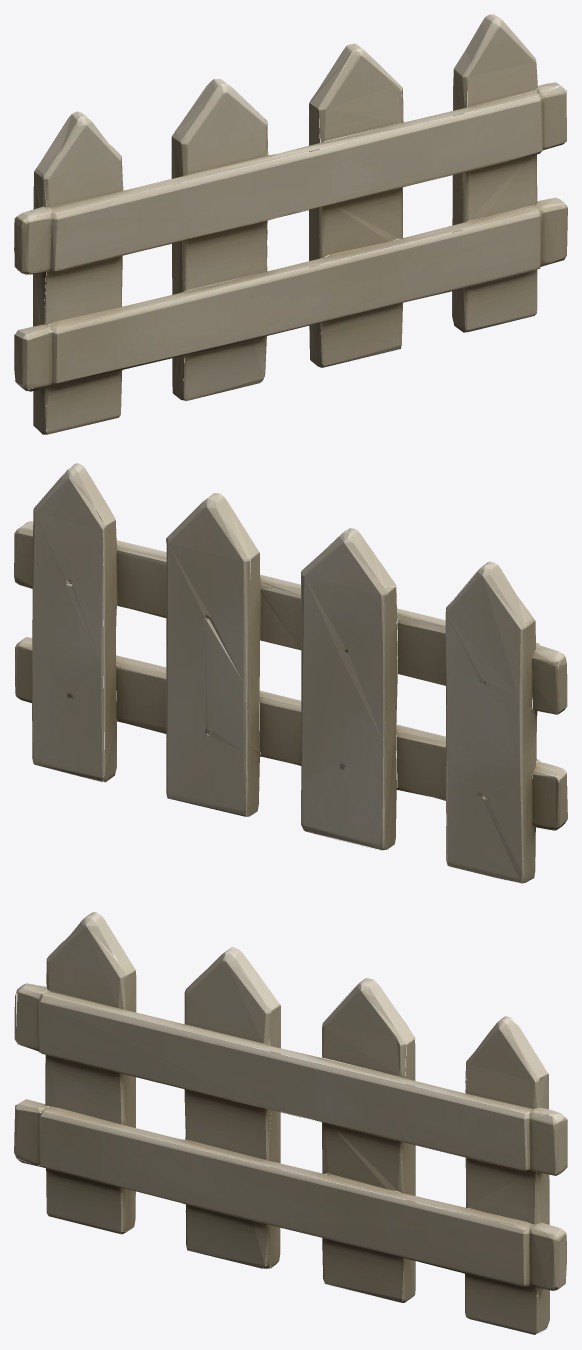
File: picket_fence.glb
The picture shows the model from 3 angles, top to bottom: view 1: azimuth 30°, elevation 25°; view 2: azimuth 150°, elevation 25°; view 3: azimuth 330°, elevation 25°; orthographic projection.
Parts seen in each view (by area): view 1: geometry_0; view 2: geometry_0; view 3: geometry_0.
Boxes of the visible parts, bbox=[...] form: geometry_0: bbox=[14, 14, 567, 434]; geometry_0: bbox=[14, 463, 567, 883]; geometry_0: bbox=[14, 912, 567, 1334].
Size of the model in its own units: 0.9986 by 0.5424 by 0.0706.
Materials: 1 (1 with a texture image).
